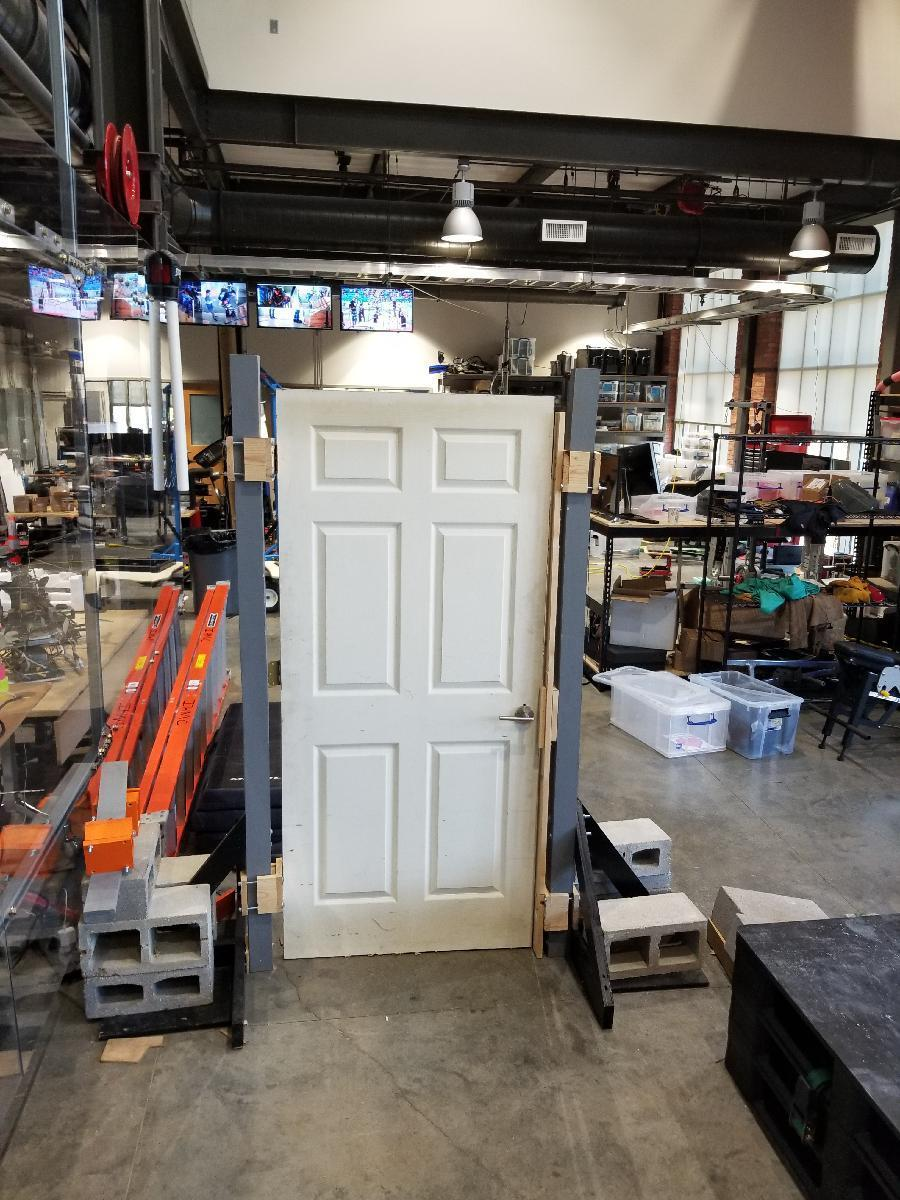door: (276, 386, 540, 954)
handle: (503, 706, 540, 732)
